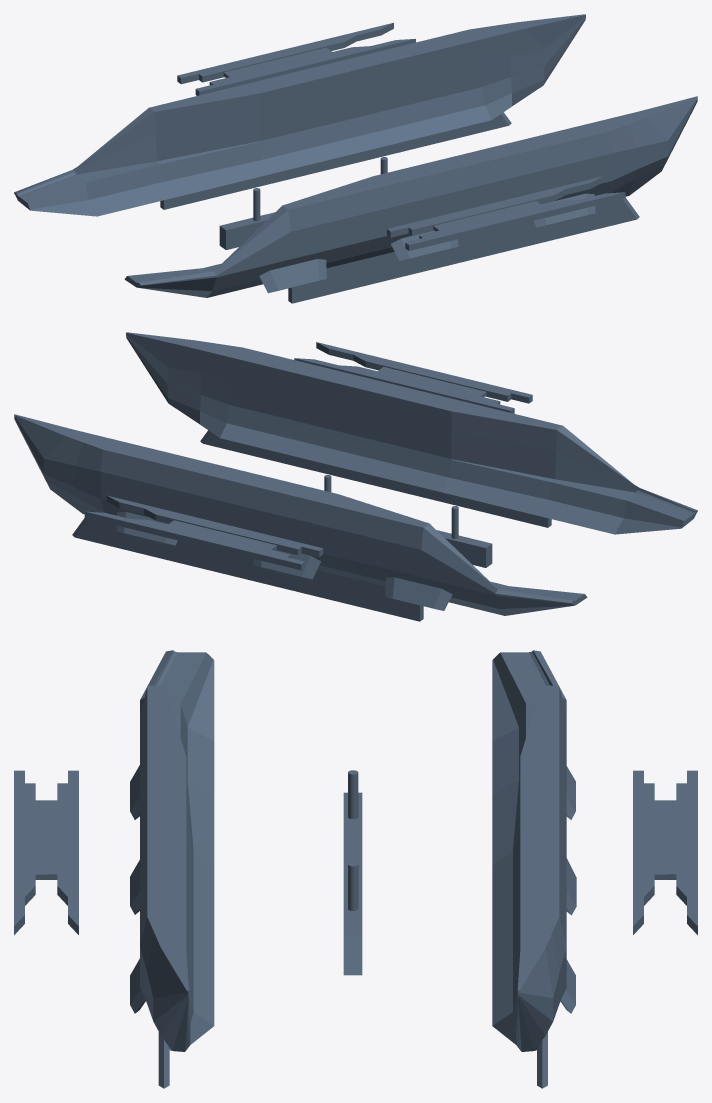
The picture shows the model from 3 angles, top to bottom: view 1: azimuth 30°, elevation 25°; view 2: azimuth 150°, elevation 25°; view 3: azimuth 270°, elevation 25°; orthographic projection. The views are drawn at different scales.
Parts seen in each view (by area): view 1: 立方体.016, 立方体.015, 立方体.014, 立方体.021, 立方体.005, 立方体, 立方体.017, 立方体.002, 立方体.007, 立方体.008, 立方体.003, 立方体.013 (+6 smaller); view 2: 立方体.015, 立方体.016, 立方体.021, 立方体.014, 立方体.002, 立方体.023, 立方体.007, 立方体, 立方体.005, 立方体.006, 立方体.001, 立方体.013 (+6 smaller); view 3: 立方体.015, 立方体.016, 立方体.013, 立方体.004, 立方体.009, 立方体, 立方体.002, 立方体.005, 立方体.007, 立方体.008, 立方体.003, 立方体.001 (+1 smaller).
Part boxes in pixels (x1,y1,x2,y2): 立方体.016: (14, 14, 585, 216); 立方体.015: (124, 96, 697, 297); 立方体.014: (288, 198, 639, 303); 立方体.021: (160, 112, 511, 209); 立方体.005: (405, 192, 625, 250); 立方体: (195, 38, 415, 95); 立方体.017: (259, 259, 326, 293); 立方体.002: (177, 22, 393, 84); 立方体.007: (387, 176, 603, 237); 立方体.008: (408, 189, 566, 235); 立方体.003: (199, 35, 356, 82); 立方体.013: (219, 212, 274, 249); 立方体.015: (126, 332, 697, 534); 立方体.016: (14, 414, 587, 615); 立方体.021: (72, 511, 423, 621); 立方体.014: (200, 430, 551, 527); 立方体.002: (84, 511, 304, 570); 立方体.023: (385, 577, 452, 610); 立方体.007: (294, 358, 514, 413); 立方体: (106, 495, 323, 556); 立方体.005: (316, 342, 532, 403); 立方体.006: (353, 355, 511, 401); 立方体.001: (144, 508, 301, 555); 立方体.013: (436, 530, 492, 567); 立方体.015: (140, 650, 214, 1051); 立方体.016: (492, 650, 566, 1051); 立方体.013: (343, 792, 362, 975); 立方体.004: (654, 800, 676, 879); 立方体.009: (35, 800, 57, 879); 立方体: (633, 770, 643, 934); 立方体.002: (687, 770, 697, 934); 立方体.005: (14, 770, 24, 934); 立方体.007: (68, 770, 78, 934); 立方体.008: (57, 783, 68, 905); 立方体.003: (676, 783, 687, 905); 立方体.001: (643, 783, 654, 905).
Bounding box in the file's own units: 8.26 × 1.38 × 5.88.
